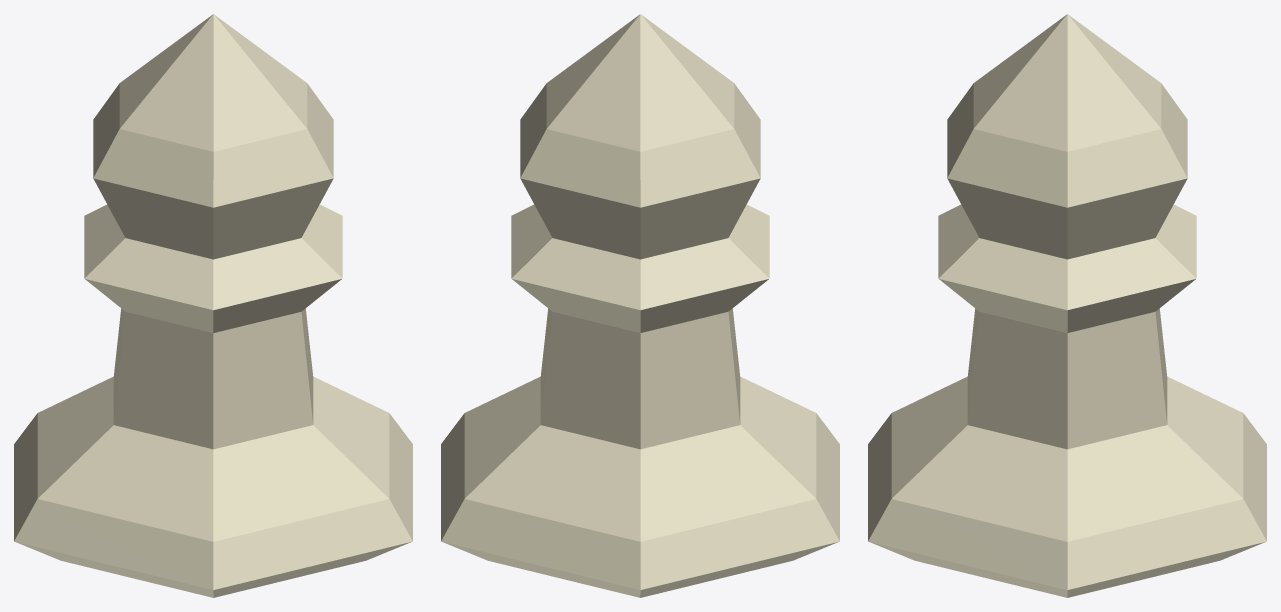
The model's file is pawn.obj.
3 renders of one model, left to right at view 1: azimuth 30°, elevation 25°; view 2: azimuth 150°, elevation 25°; view 3: azimuth 270°, elevation 25°, orthographic.
Bounding box in the file's own units: 0.68 × 0.83 × 0.5888.
